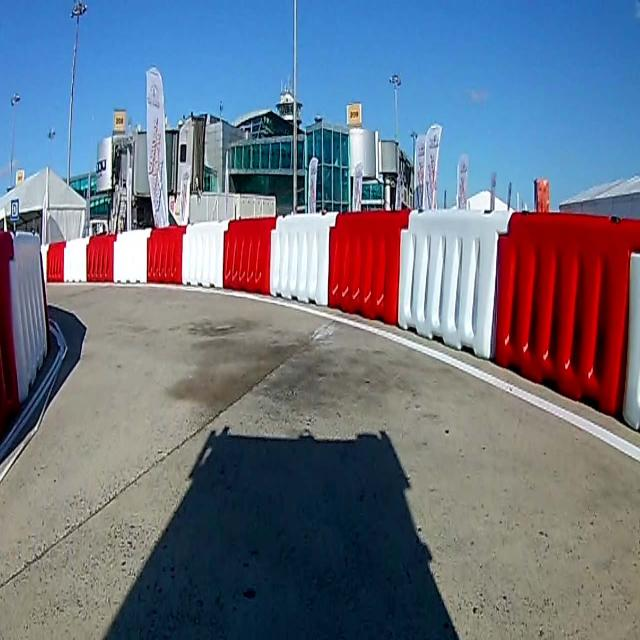durak: (9, 198, 18, 218)
